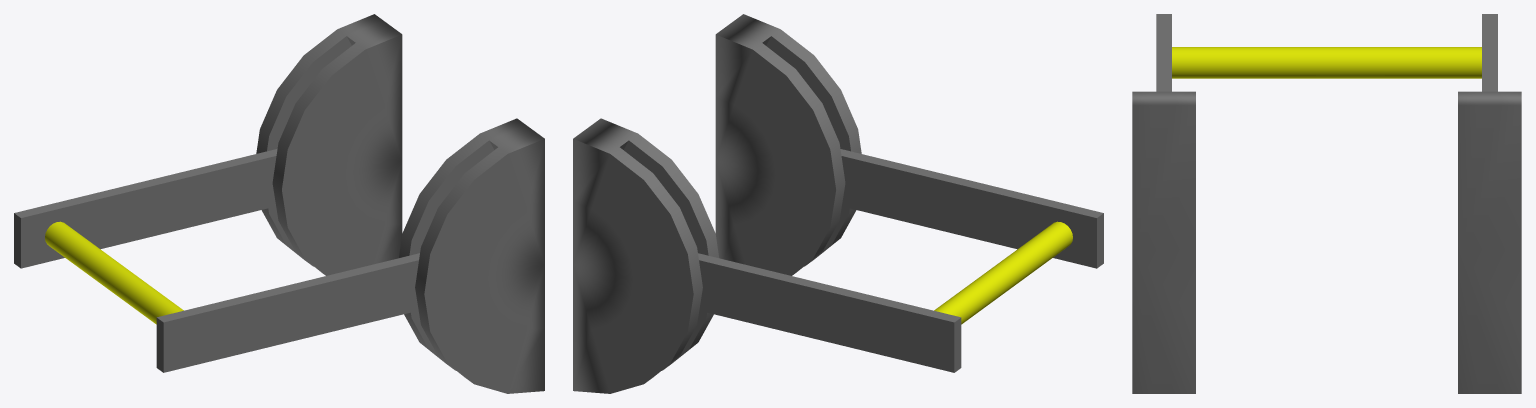
Rendered from SWG.fbx.
3 views of the same model, side by side, from view 1: azimuth 30°, elevation 25°; view 2: azimuth 150°, elevation 25°; view 3: azimuth 270°, elevation 25° (orthographic). The views are drawn at different scales.
Visible parts, largest first — view 1: SWASL, SWASL1, SWSR, SWSL, Axis; view 2: SWASL1, SWASL, SWSL, SWSR, Axis; view 3: SWASL, SWASL1, Axis, SWSR, SWSL.
Boxes of the visible parts, left/top/right/bottom form: SWASL: left=399, top=118, right=544, bottom=393; SWASL1: left=256, top=14, right=402, bottom=275; SWSR: left=156, top=253, right=419, bottom=372; SWSL: left=14, top=149, right=277, bottom=268; Axis: left=45, top=221, right=183, bottom=324; SWASL1: left=573, top=118, right=718, bottom=393; SWASL: left=715, top=14, right=861, bottom=275; SWSL: left=698, top=253, right=961, bottom=372; SWSR: left=840, top=149, right=1103, bottom=268; Axis: left=934, top=221, right=1072, bottom=324; SWASL: left=1132, top=91, right=1195, bottom=393; SWASL1: left=1458, top=91, right=1521, bottom=393; Axis: left=1172, top=47, right=1481, bottom=78; SWSR: left=1156, top=14, right=1171, bottom=91; SWSL: left=1482, top=14, right=1497, bottom=91.
Bounding box in the file's own units: 3.08 × 2 × 2.45.
